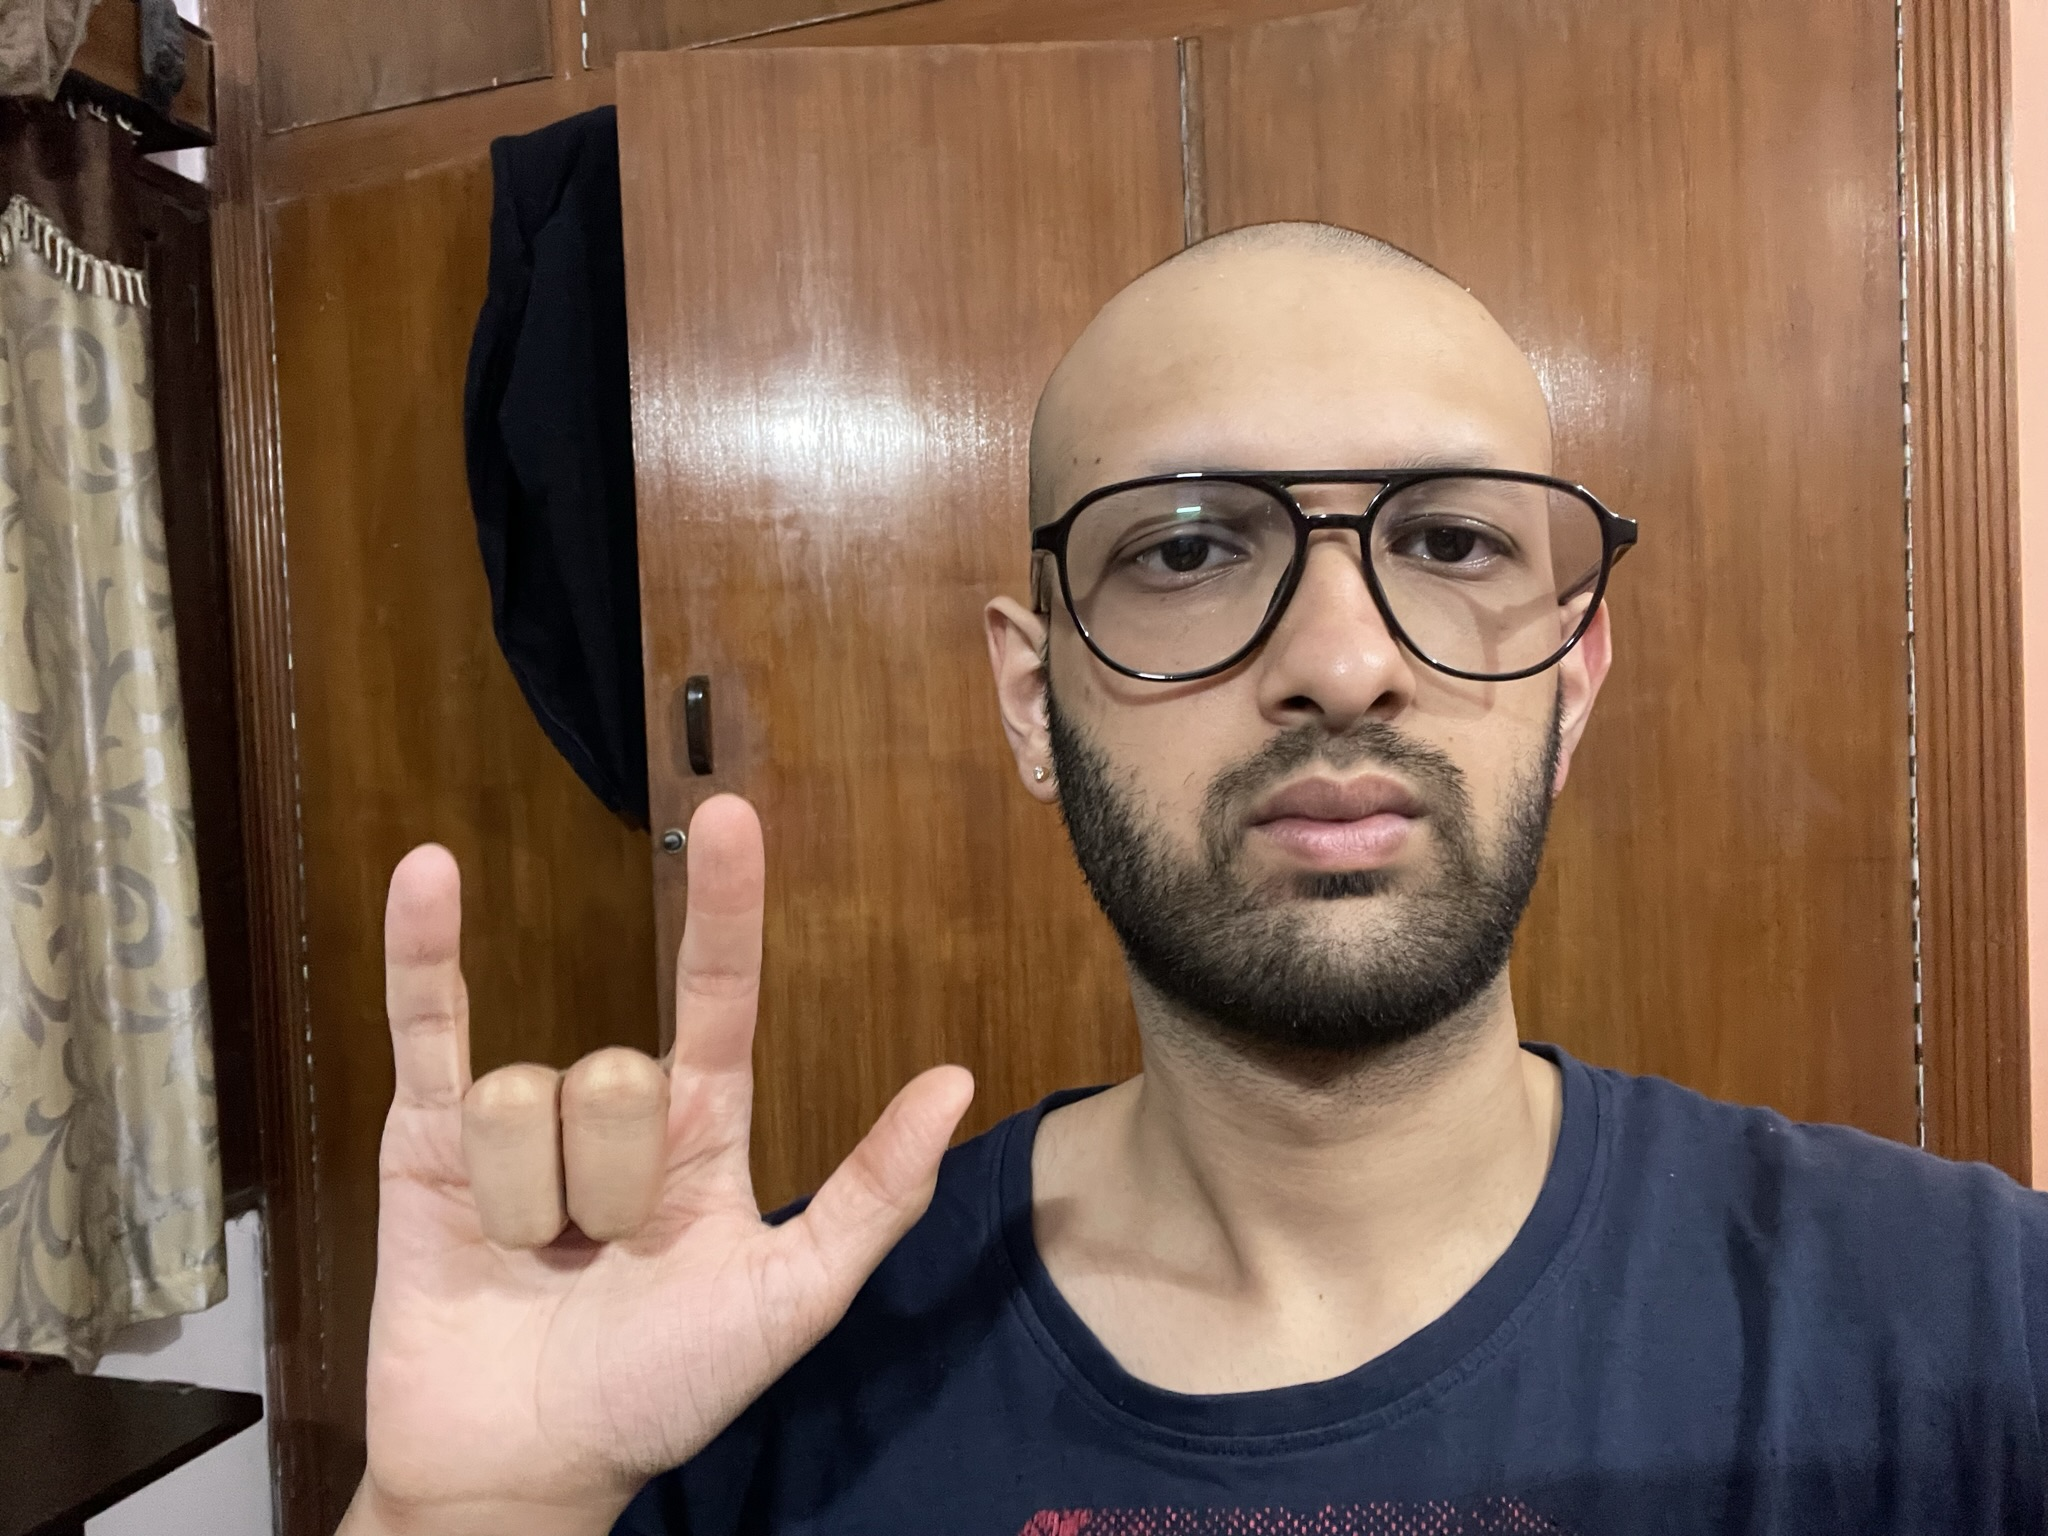I Love You: (356, 784, 977, 1492)
